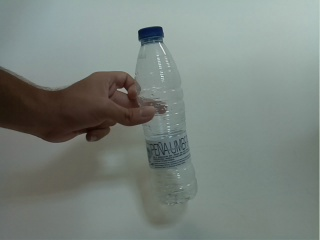botella plastico: (134, 24, 200, 208)
